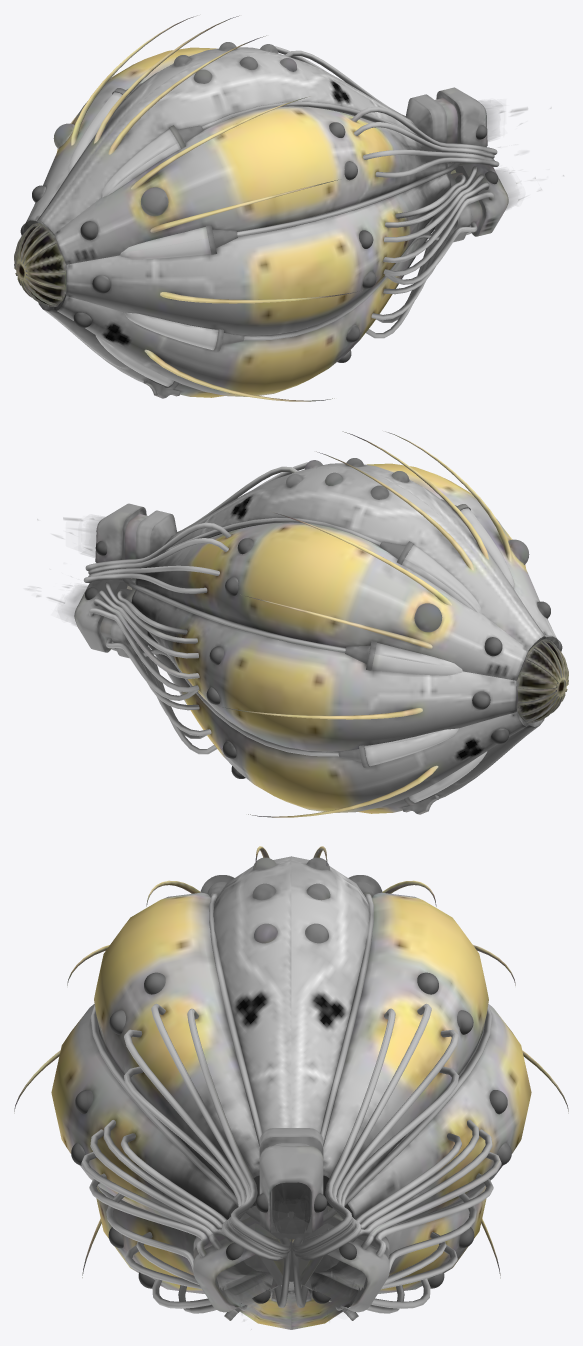
Rendered from pod.glb.
The picture shows the model from 3 angles, top to bottom: view 1: azimuth 30°, elevation 25°; view 2: azimuth 150°, elevation 25°; view 3: azimuth 270°, elevation 25°; orthographic projection. The views are drawn at different scales.
Visible parts, largest first — view 1: Sphere.152_copy_low; view 2: Sphere.152_copy_low; view 3: Sphere.152_copy_low.
Boxes of the visible parts, x1,y1,x2,y2 form: Sphere.152_copy_low: (14,15,563,401); Sphere.152_copy_low: (28,431,568,817); Sphere.152_copy_low: (14,846,568,1329).
Bounding box in the file's own units: 1.83 × 1.18 × 1.27.
2 materials, 2 textured.
